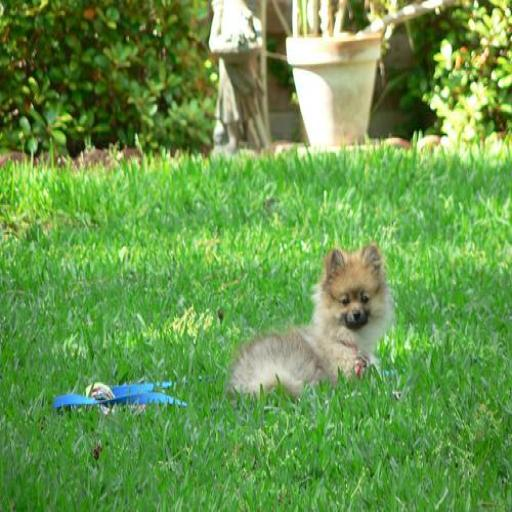dog_face: (314, 246, 391, 337)
